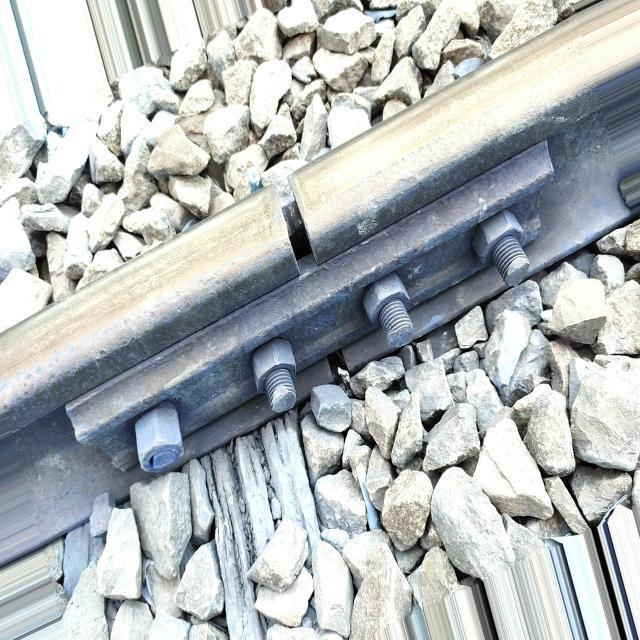Good Joint: (65, 141, 553, 469)
